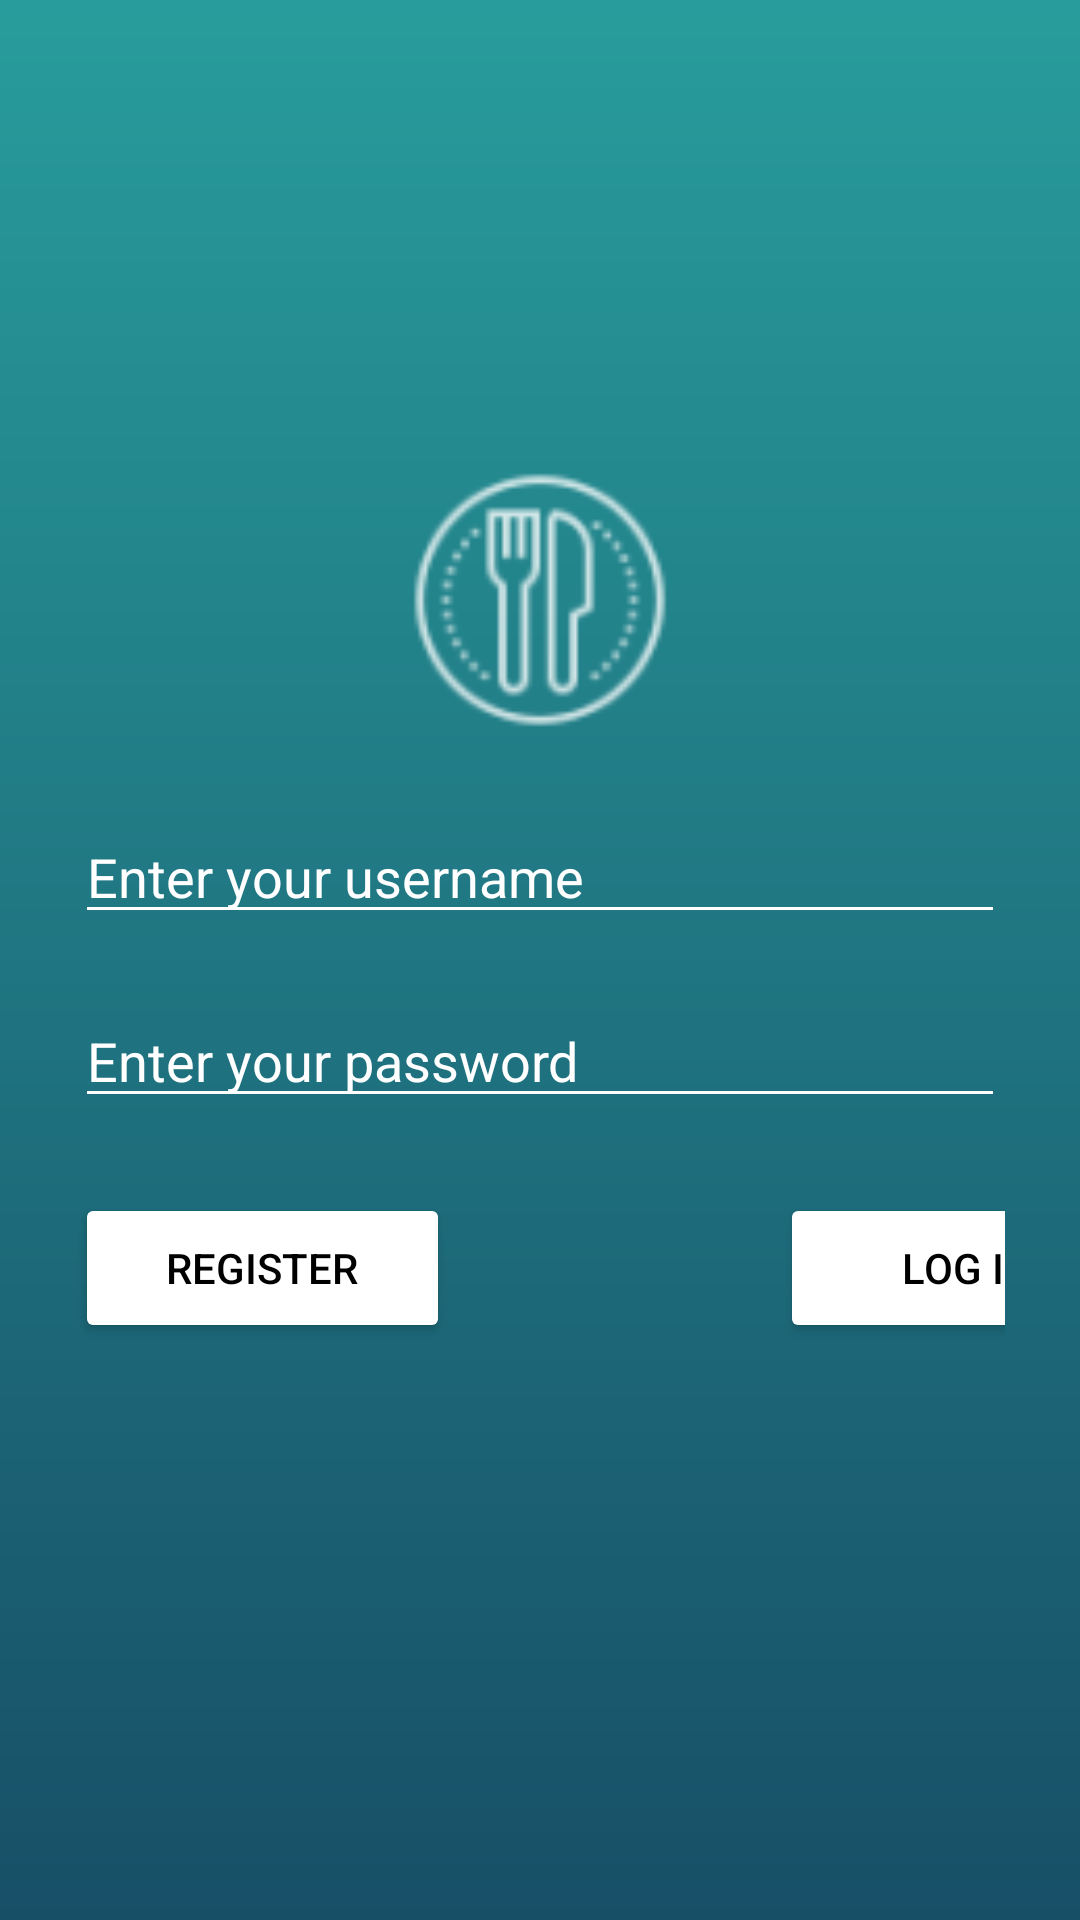

Icons on this 1080w x 1920h Android screen, each with its box as (x1, y1, x2, y2):
meal: (414, 474, 666, 726)
